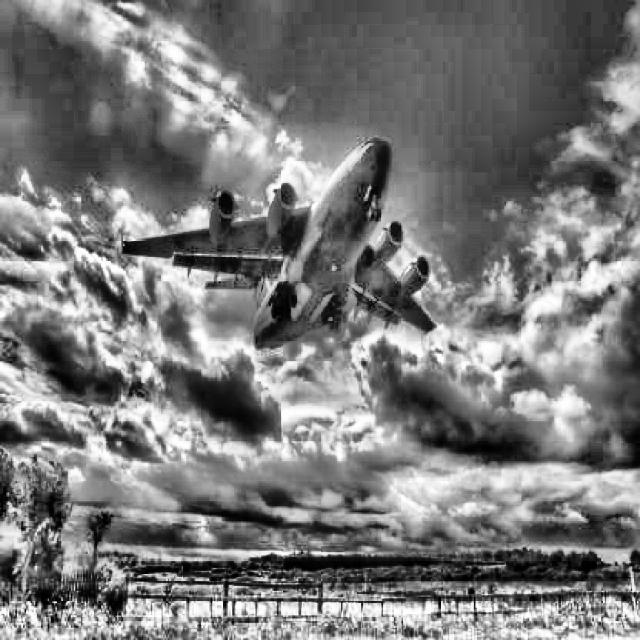C17: (120, 138, 438, 350)
